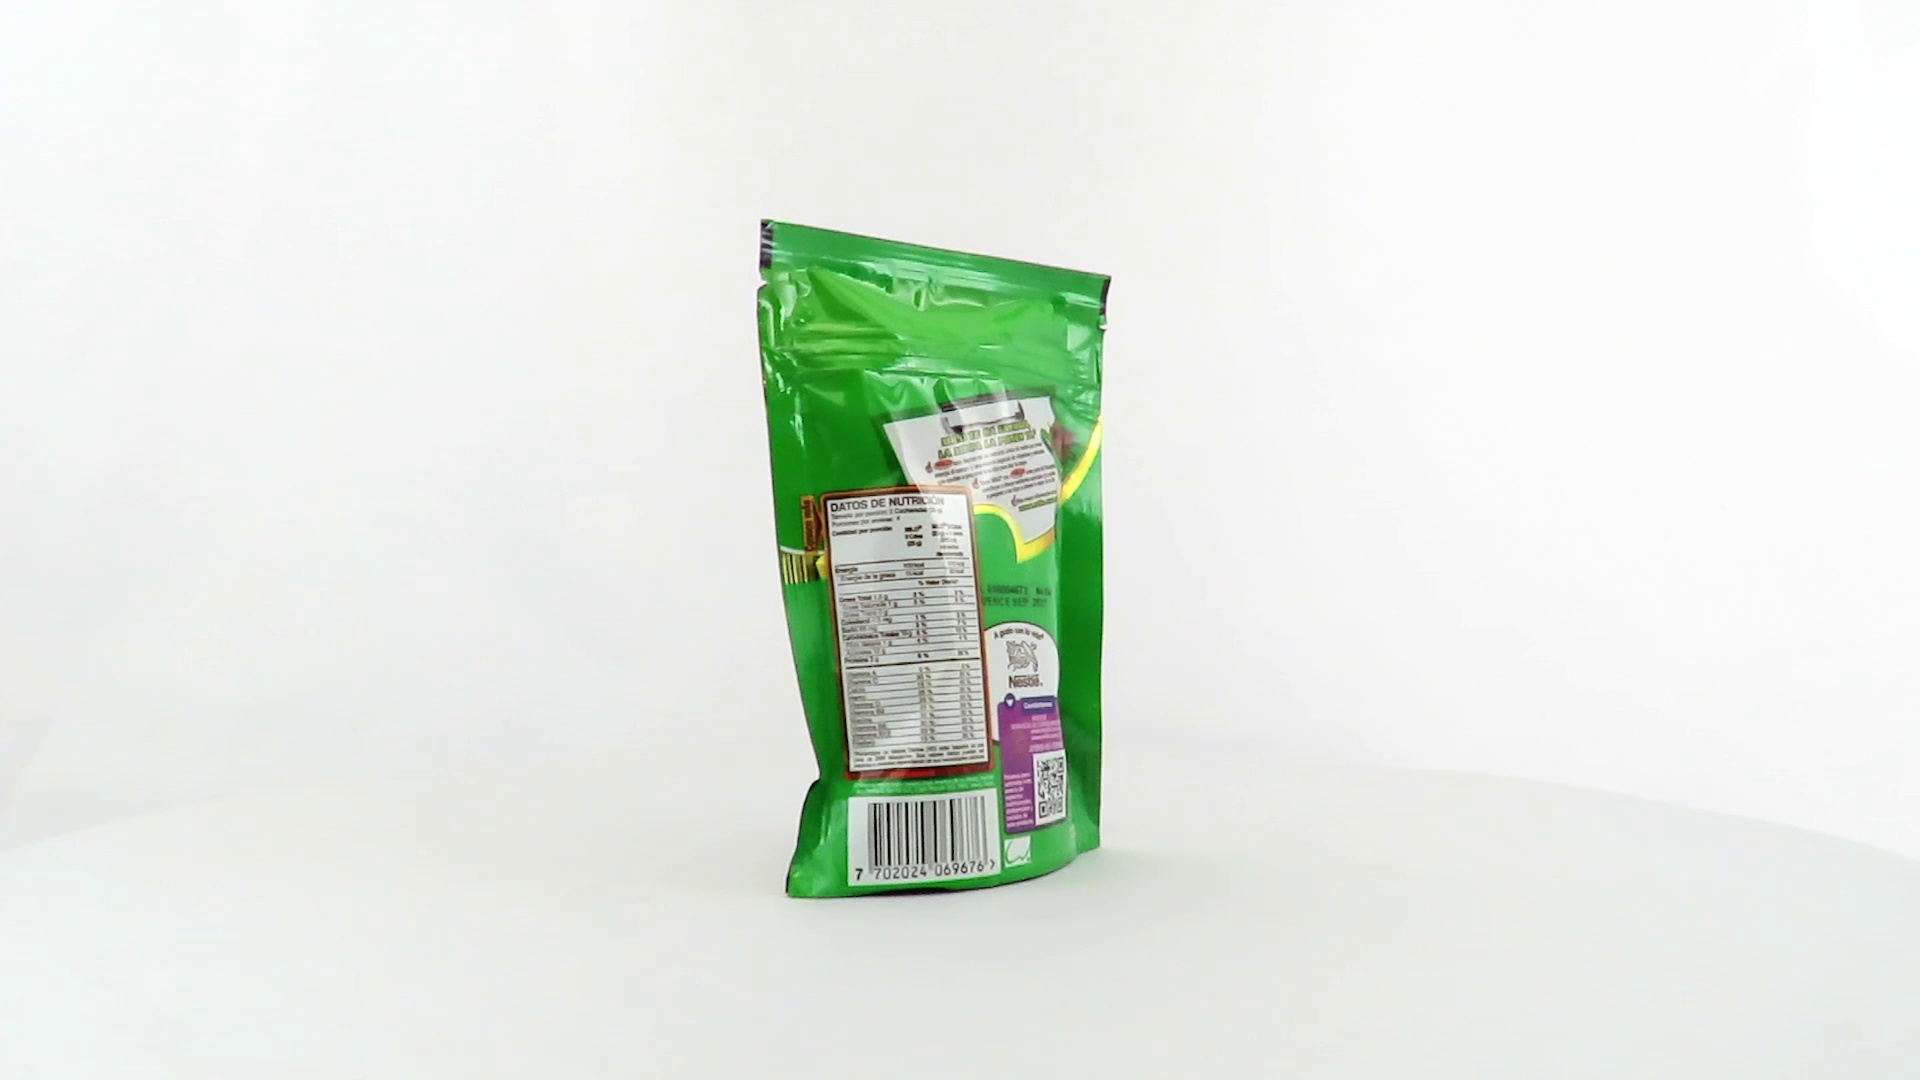COL0170203DYP10000: (752, 214, 1118, 905)
